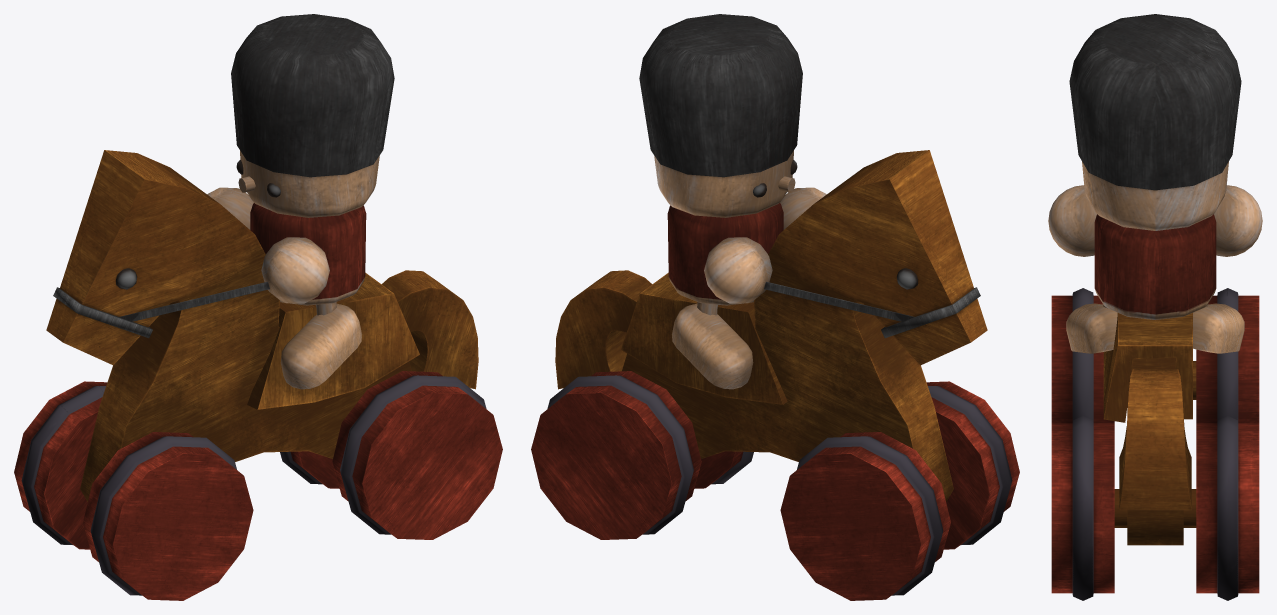
The model's file is cavallino maschio.fbx.
3 views of the same model, side by side, from view 1: azimuth 30°, elevation 25°; view 2: azimuth 150°, elevation 25°; view 3: azimuth 270°, elevation 25° (orthographic). The views are drawn at different scales.
Visible parts, largest first — view 1: Cube.012; view 2: Cube.012; view 3: Cube.012.
Boxes of the visible parts, x1=… form: Cube.012: x1=14, y1=14, x2=502, y2=600; Cube.012: x1=531, y1=14, x2=1019, y2=600; Cube.012: x1=1048, y1=14, x2=1262, y2=600.
Bounding box in the file's own units: 283 × 329 × 122.
1 material, 1 textured.
